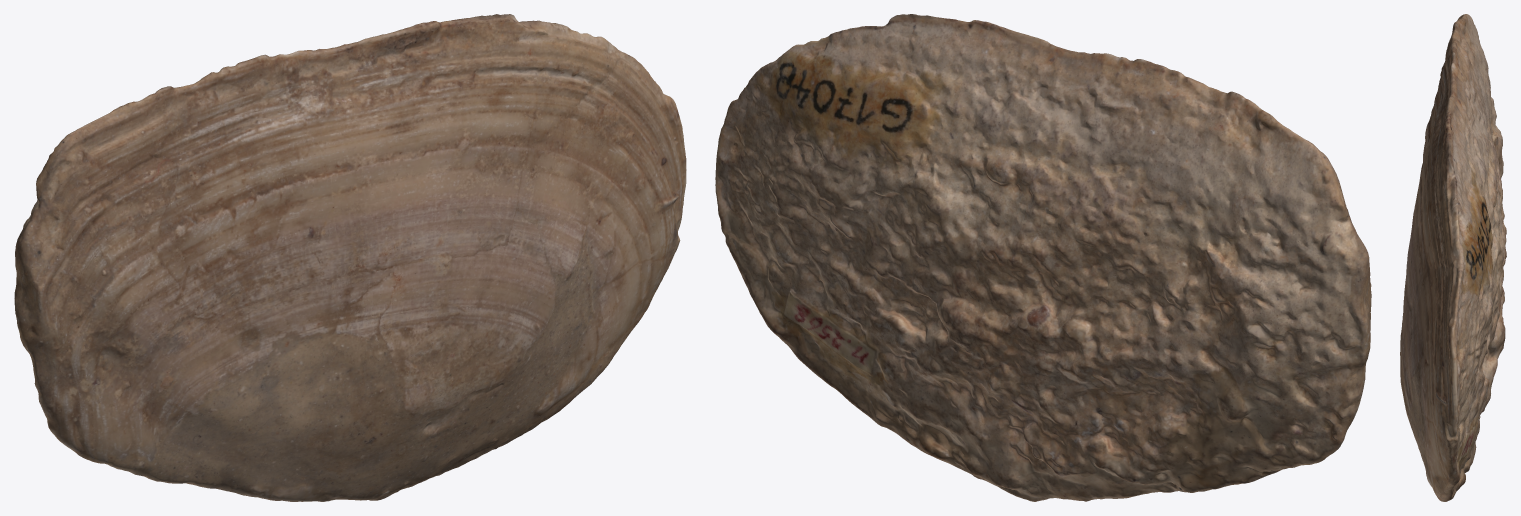
The model's file is EWS0012650.glb.
3 renders of one model, left to right at view 1: azimuth 30°, elevation 25°; view 2: azimuth 150°, elevation 25°; view 3: azimuth 270°, elevation 25°, orthographic. The views are drawn at different scales.
Parts seen in each view (by area): view 1: input; view 2: input; view 3: input.
Part boxes in pixels (bbox=[...]): input: bbox=[14, 14, 686, 501]; input: bbox=[715, 14, 1371, 501]; input: bbox=[1400, 14, 1506, 501].
Size of the model in its own units: 0.0788 by 0.0534 by 0.0139.
Materials: 1 (1 with a texture image).
